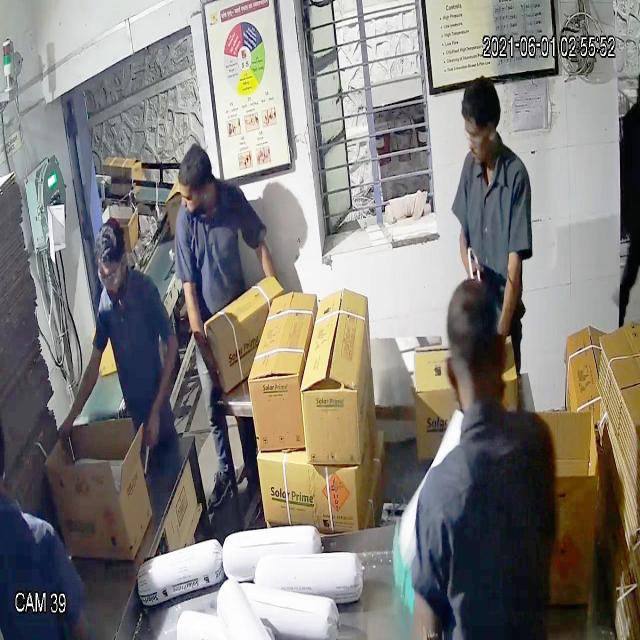glasses: (91, 257, 132, 292)
